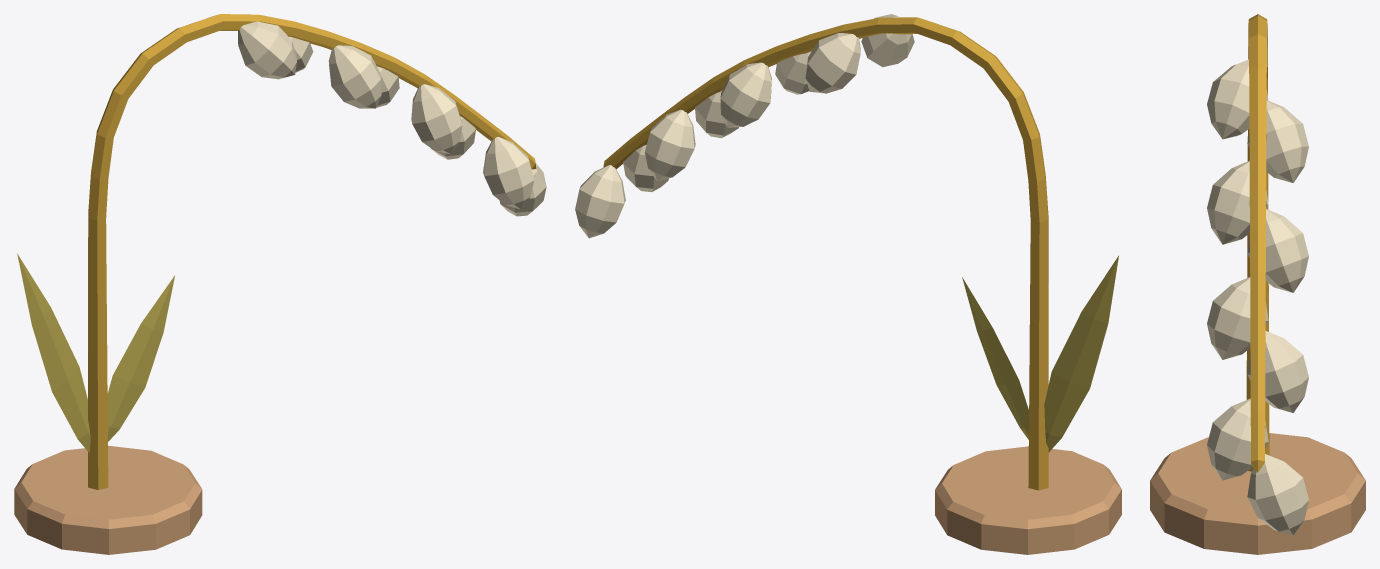
The model's file is KANJI_25_KOME.fbx.
3 renders of one model, left to right at view 1: azimuth 30°, elevation 25°; view 2: azimuth 150°, elevation 25°; view 3: azimuth 270°, elevation 25°, orthographic. The views are drawn at different scales.
Parts seen in each view (by area): view 1: SM_KANJI_25_Kome; view 2: SM_KANJI_25_Kome; view 3: SM_KANJI_25_Kome.
Part boxes in pixels (x1,y1,x2,y2): SM_KANJI_25_Kome: [14, 14, 546, 554]; SM_KANJI_25_Kome: [575, 14, 1121, 554]; SM_KANJI_25_Kome: [1150, 14, 1365, 554].
Size of the model in its own units: 0.26 by 0.22 by 0.08.
